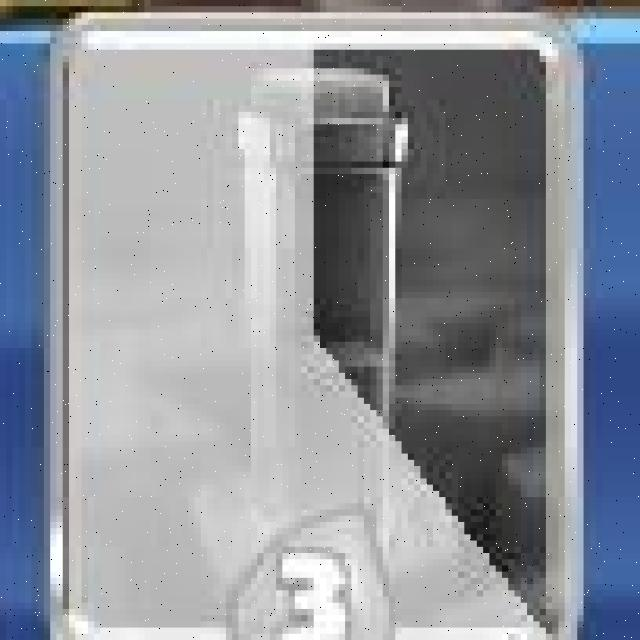Earthquake: (54, 15, 582, 640)
